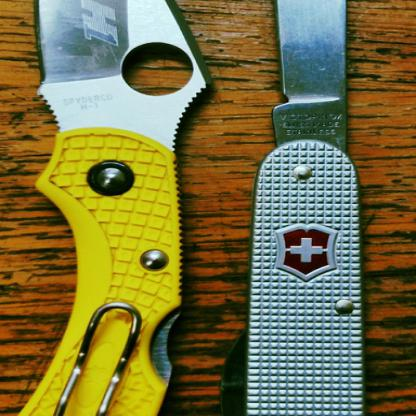knife: (0, 0, 211, 415), (237, 0, 370, 415)
